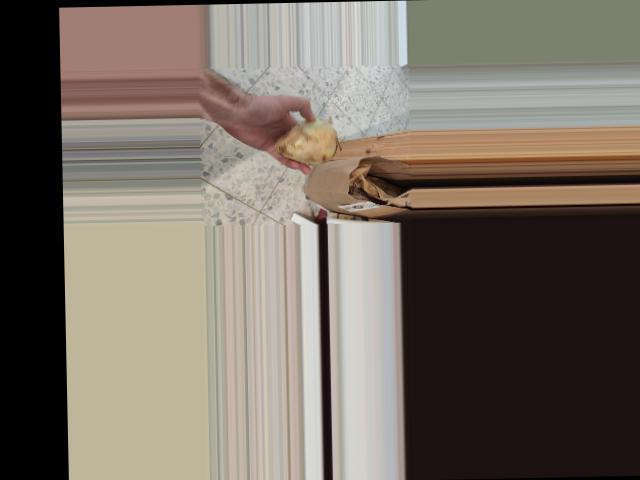onion: (274, 116, 343, 166)
